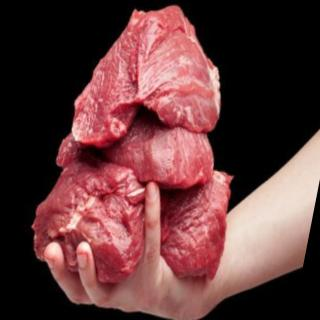Daging Sapi: (32, 1, 267, 287), (66, 1, 237, 170), (25, 152, 155, 286), (121, 1, 238, 138), (95, 113, 222, 201), (151, 164, 239, 289)
